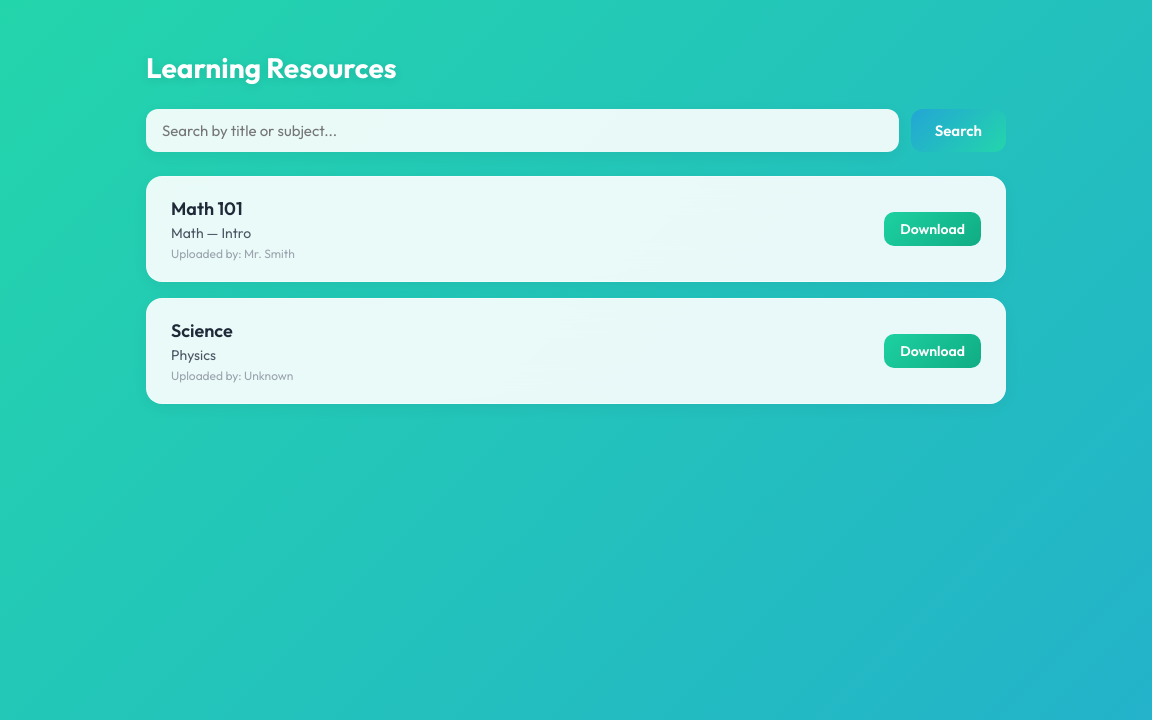
Test: ResourcesPage White Box Tests › handles search functionality and clear button
Expected: the heading "Math 101" is shown, [171,197,243,220]
Type "Math" into the field with placeholder "Search by title or subject...". click: [522, 130]
box: [146,109,899,152]
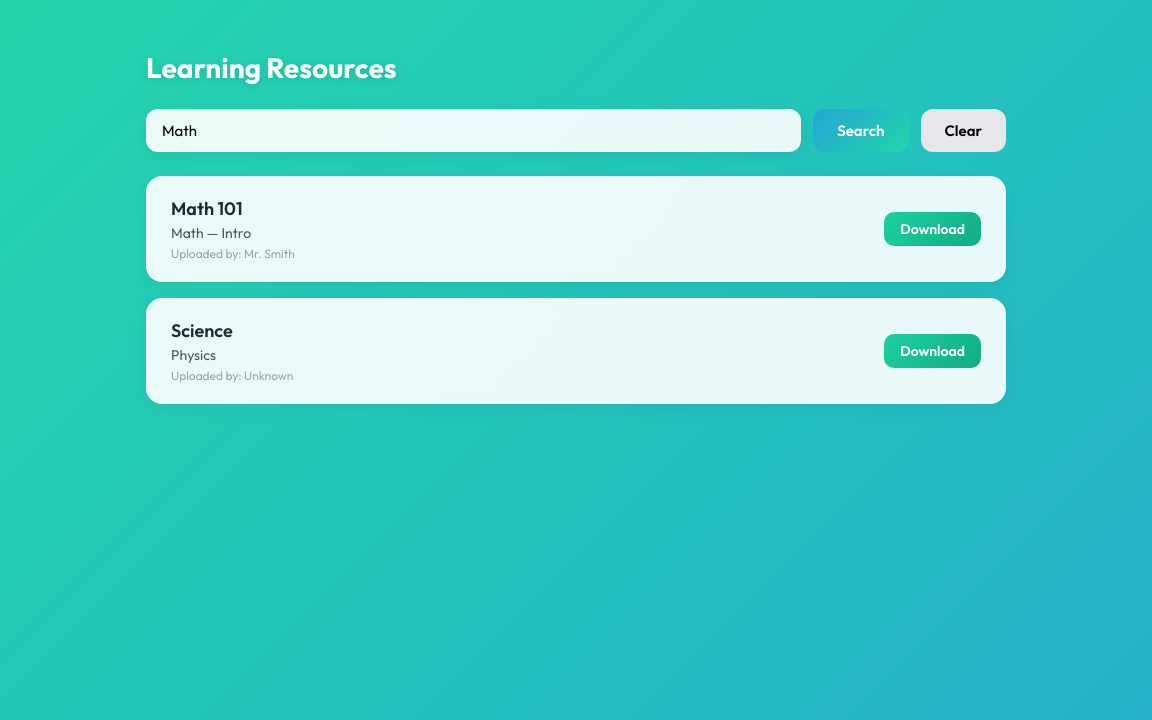
Simulate enter key
Press Enter in the field with placeholder "Search by title or subject...", box [146,109,801,152]
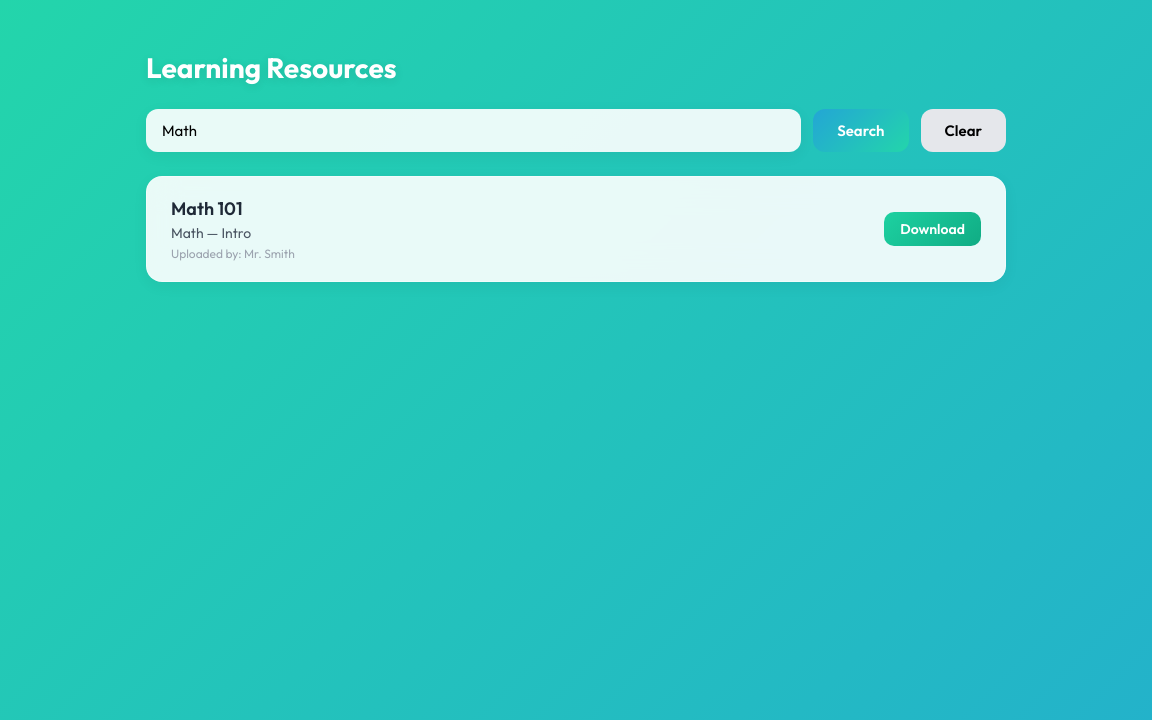
Click the button "Clear". click: [963, 130]
box: [920,109,1006,152]
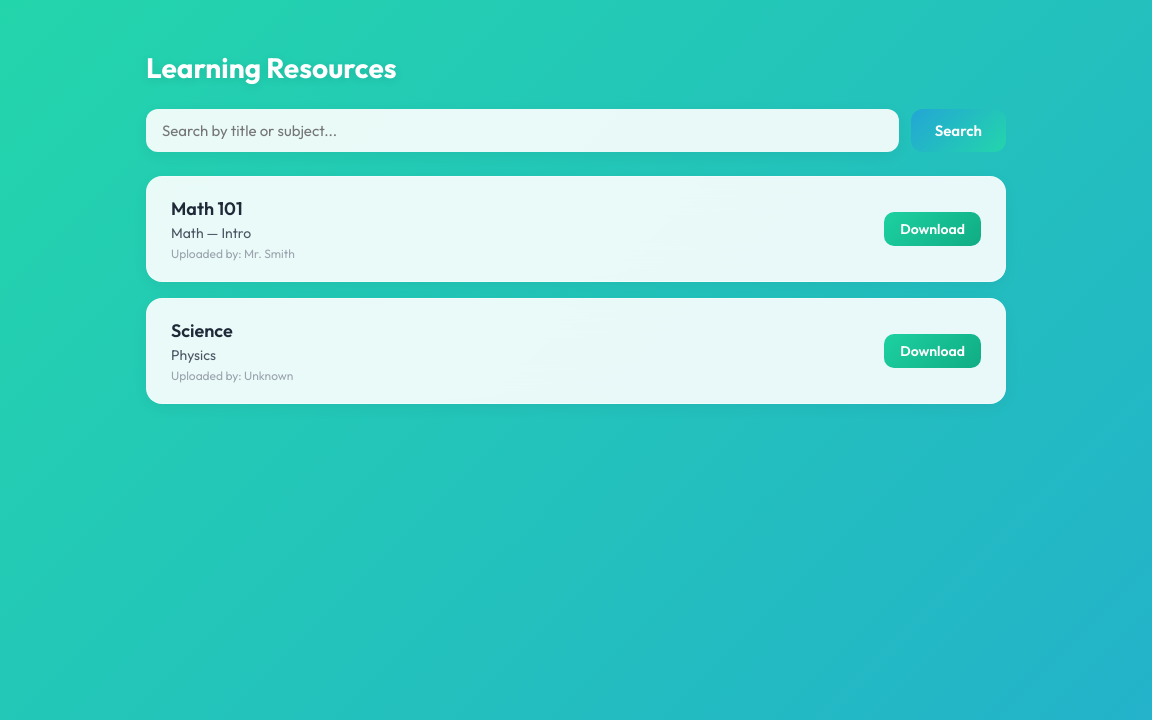
Expected: the field with placeholder "Search by title or subject..." is empty, [146,109,899,152]
